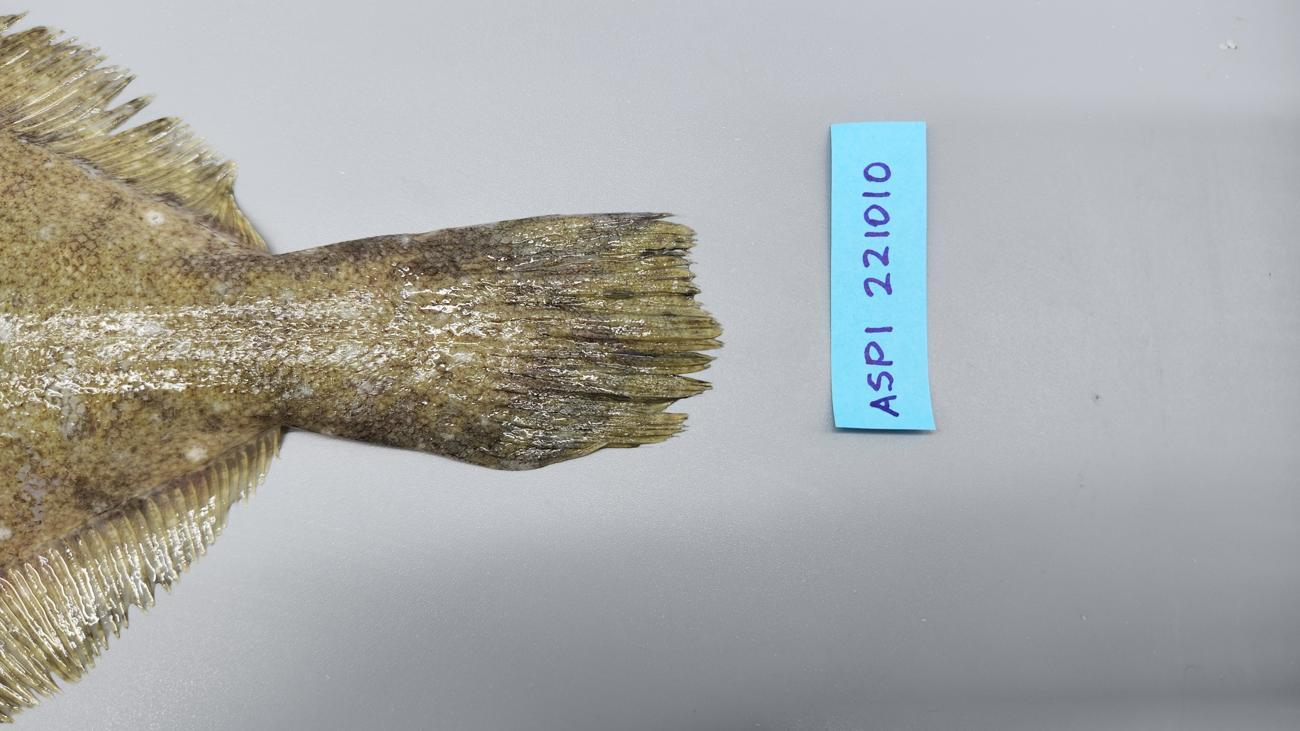SPDYH: (0, 425, 195, 575)
